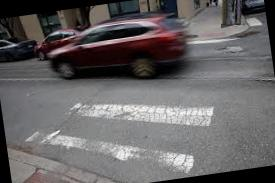faded_road_lines: (26, 49, 234, 183), (166, 30, 245, 107)
